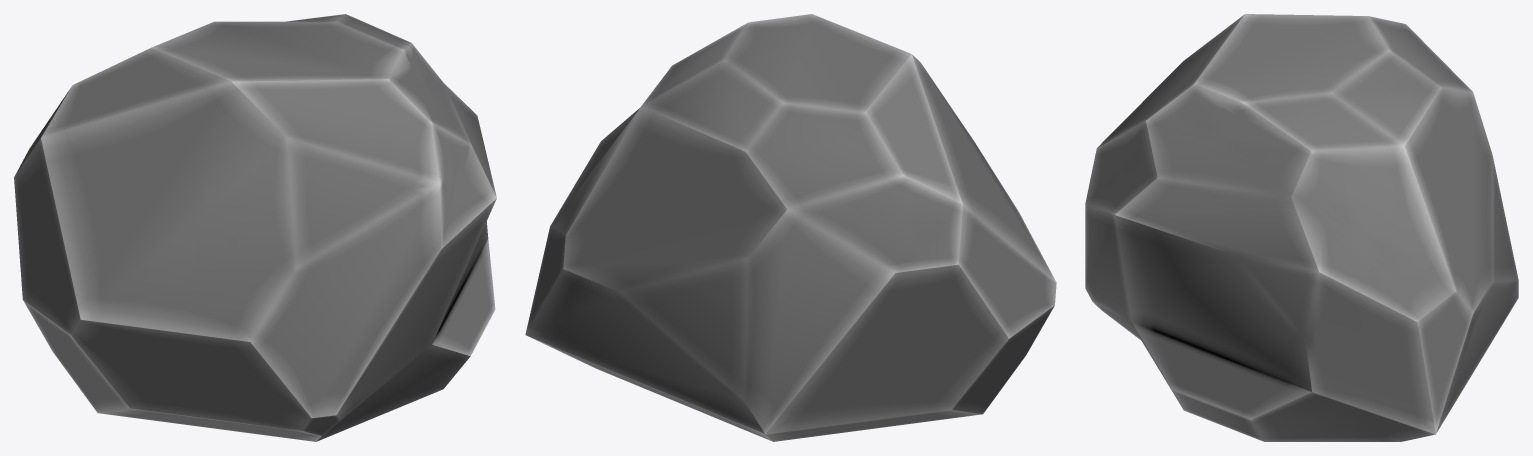
Rendered from Rock02.fbx.
The picture shows the model from 3 angles, left to right: view 1: azimuth 30°, elevation 25°; view 2: azimuth 150°, elevation 25°; view 3: azimuth 270°, elevation 25°; orthographic projection. The views are drawn at different scales.
Parts seen in each view (by area): view 1: Rock02_LOD0; view 2: Rock02_LOD0; view 3: Rock02_LOD0.
Boxes of the visible parts, <box> form: Rock02_LOD0: <box>14,14,496,441</box>; Rock02_LOD0: <box>525,14,1056,441</box>; Rock02_LOD0: <box>1085,14,1518,441</box>.
Size of what is drawn, in the model's own units: 142 by 96.96 by 122.
Materials: 1 (1 with a texture image).
